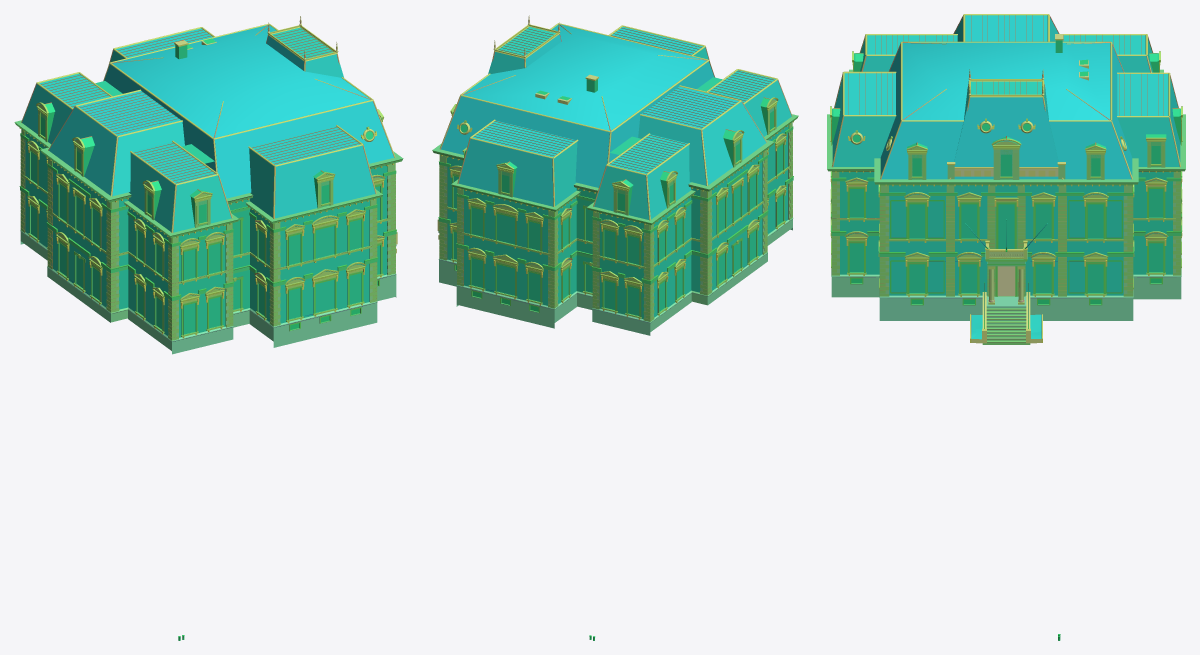
The model's file is townhall.glb.
3 renders of one model, left to right at view 1: azimuth 30°, elevation 25°; view 2: azimuth 150°, elevation 25°; view 3: azimuth 270°, elevation 25°, orthographic. The views are drawn at different scales.
Visible parts, largest first — view 1: TownHall, TownHall_far; view 2: TownHall, TownHall_far; view 3: TownHall, TownHall_far.
Boxes of the visible parts, x1=… form: TownHall: x1=14, y1=16, x2=403, y2=640; TownHall_far: x1=15, y1=35, x2=402, y2=336; TownHall: x1=432, y1=15, x2=798, y2=640; TownHall_far: x1=433, y1=34, x2=797, y2=317; TownHall: x1=827, y1=14, x2=1185, y2=640; TownHall_far: x1=827, y1=53, x2=1185, y2=342.
Size of what is drawn, in the model's own units: 32.69 by 60.76 by 32.35.
